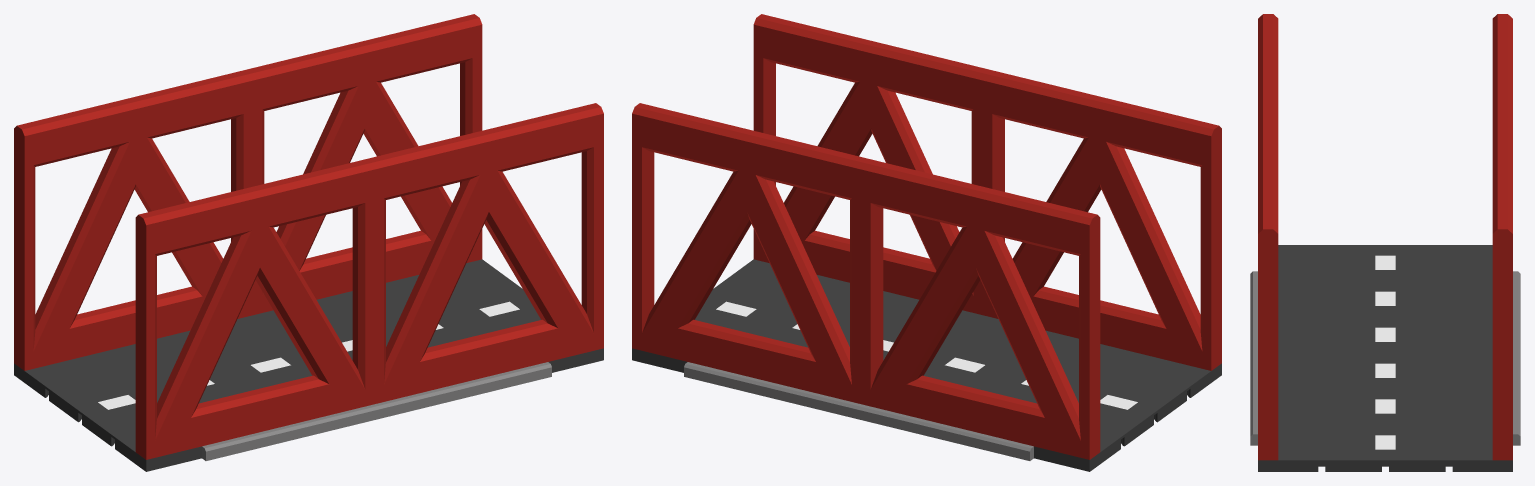
File: 10x20 Bridge Street.obj
The picture shows the model from 3 angles, left to right: view 1: azimuth 30°, elevation 25°; view 2: azimuth 150°, elevation 25°; view 3: azimuth 270°, elevation 25°; orthographic projection. The views are drawn at different scales.
Visible parts, largest first — view 1: Körper1:1, Körper1, Körper1:4, Körper1:2; view 2: Körper1, Körper1:1, Körper1:4, Körper1:3; view 3: Körper1:4, Körper1, Körper1:1, Körper1:2, Körper1:3, Körper1:5, Körper2, Körper3, Körper4, Körper5, Körper6.
Boxes of the visible parts, left/top/right/bottom form: Körper1:1: left=135, top=103, right=603, bottom=459; Körper1: left=14, top=14, right=482, bottom=370; Körper1:4: left=14, top=259, right=603, bottom=471; Körper1:2: left=202, top=362, right=551, bottom=460; Körper1: left=632, top=103, right=1100, bottom=459; Körper1:1: left=753, top=14, right=1221, bottom=370; Körper1:4: left=632, top=259, right=1221, bottom=471; Körper1:3: left=684, top=362, right=1033, bottom=460; Körper1:4: left=1258, top=245, right=1512, bottom=471; Körper1: left=1492, top=14, right=1512, bottom=460; Körper1:1: left=1258, top=14, right=1278, bottom=460; Körper1:2: left=1250, top=271, right=1257, bottom=445; Körper1:3: left=1513, top=271, right=1520, bottom=445; Körper1:5: left=1375, top=291, right=1395, bottom=305; Körper2: left=1375, top=363, right=1395, bottom=377; Körper3: left=1375, top=435, right=1395, bottom=449; Körper4: left=1375, top=399, right=1395, bottom=413; Körper5: left=1375, top=327, right=1395, bottom=341; Körper6: left=1375, top=255, right=1395, bottom=269.
Size of the model in its own units: 200 by 105 by 106.
